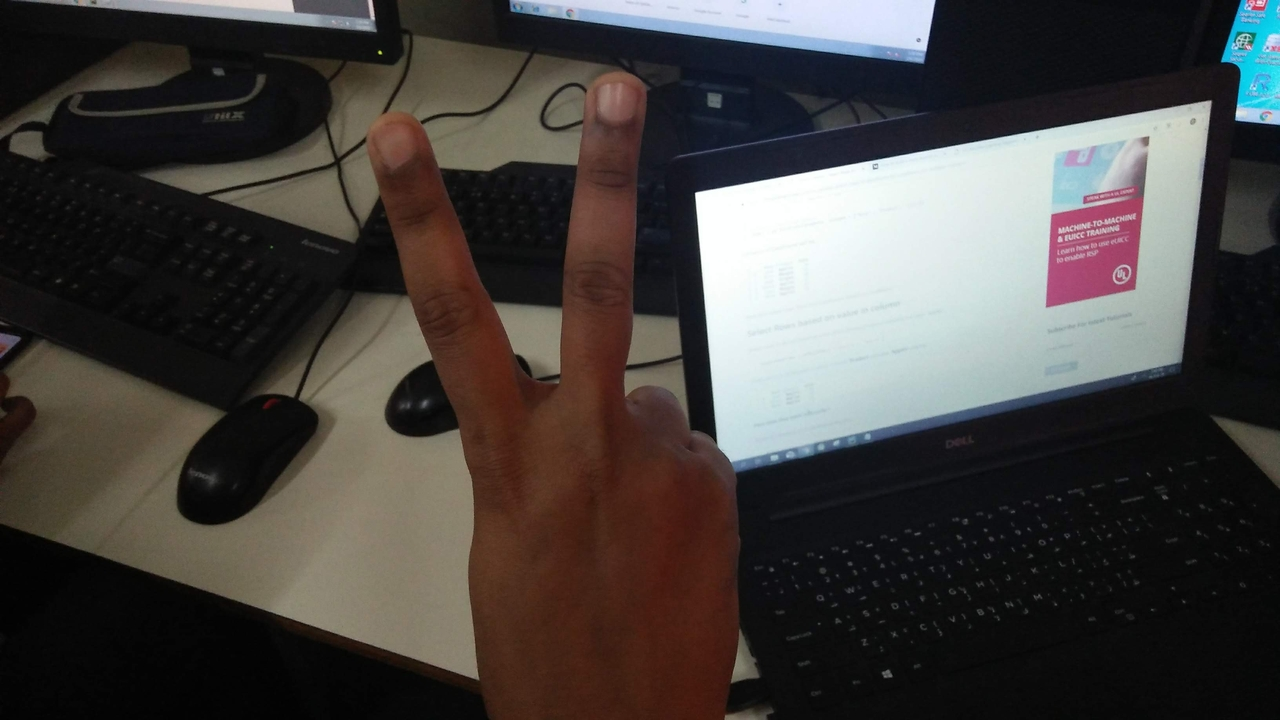fingertip: (572, 70, 650, 134), (356, 110, 436, 172)
